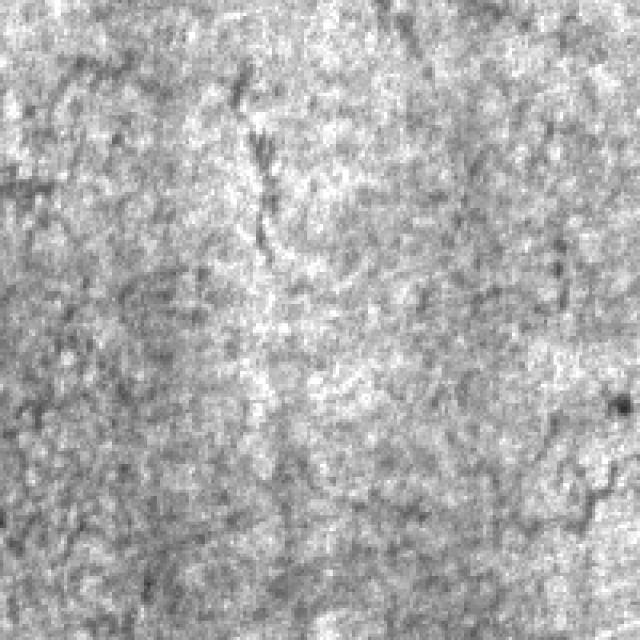crazing: (0, 39, 282, 262), (451, 406, 637, 554)
